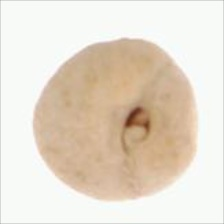L3: (117, 106, 154, 151)
L4: (31, 37, 199, 201)
